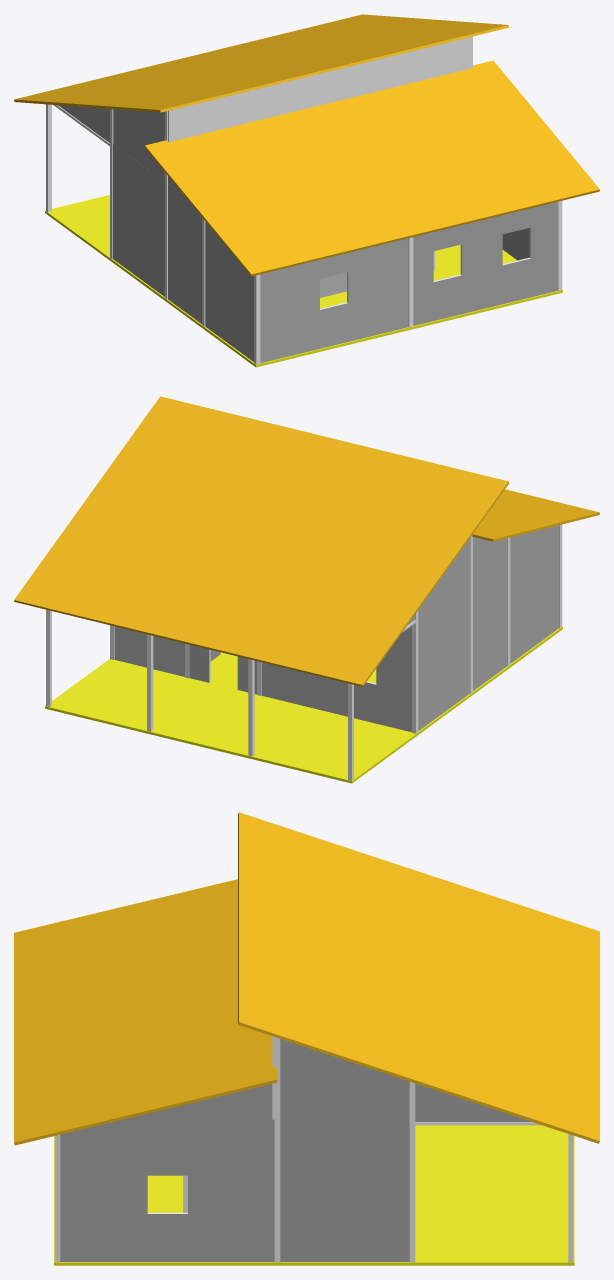
Rendered from Casa C1-12.fbx.
The picture shows the model from 3 angles, top to bottom: view 1: azimuth 30°, elevation 25°; view 2: azimuth 150°, elevation 25°; view 3: azimuth 270°, elevation 25°; orthographic projection. The views are drawn at different scales.
Visible parts, largest first — view 1: Cubo.001; view 2: Cubo.001; view 3: Cubo.001.
Part boxes in pixels (bbox=[...]): Cubo.001: bbox=[14, 14, 599, 367]; Cubo.001: bbox=[14, 396, 599, 783]; Cubo.001: bbox=[14, 812, 599, 1265].
Size of the model in its own units: 1644 by 936 by 1941.
